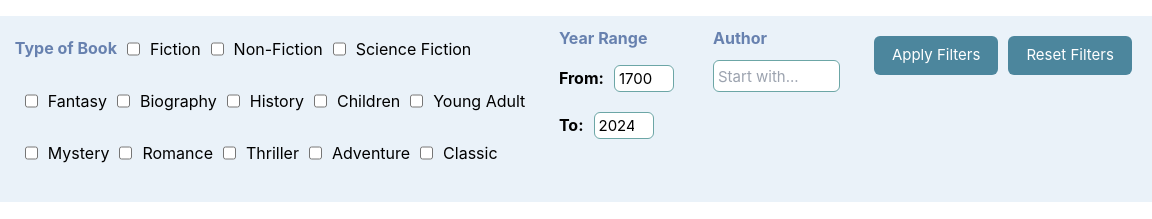
Test: resets filters when Reset Filters button is clicked
// Simulate the input from a user
In the field with placeholder "Start with...": coordinates (776, 76) [713,60,840,92], type "Author"
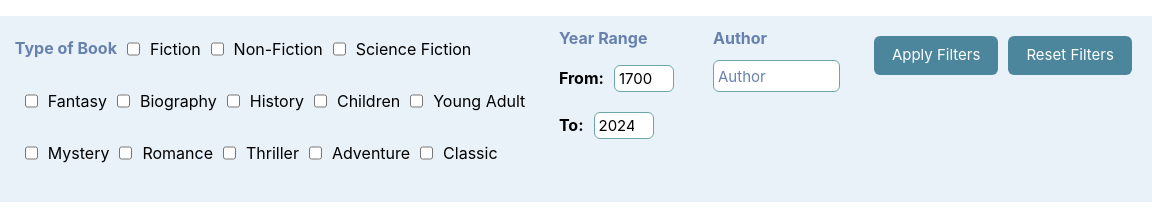
Replace the text in the number field labelled "From:" with "1800": coordinates (644, 78) [614,65,674,92]
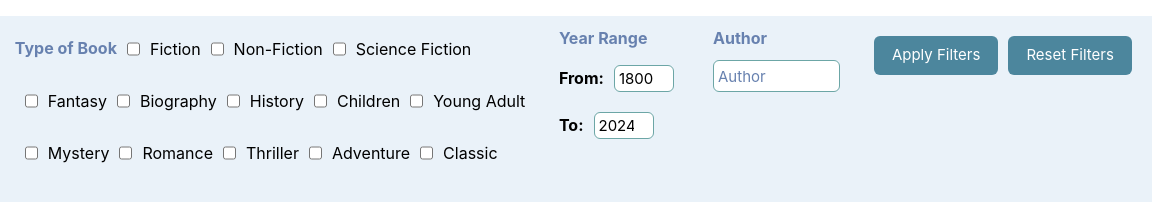
Replace the text in the number field labelled "To:" with "1900": coordinates (624, 126) [594,112,654,139]
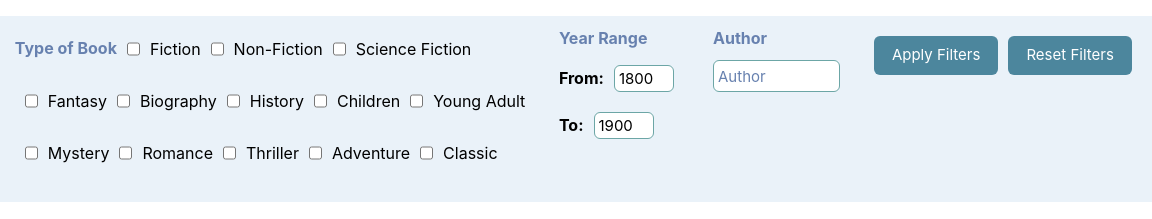
Click the button "Reset Filters": coordinates (1070, 55) [1008,36,1132,74]
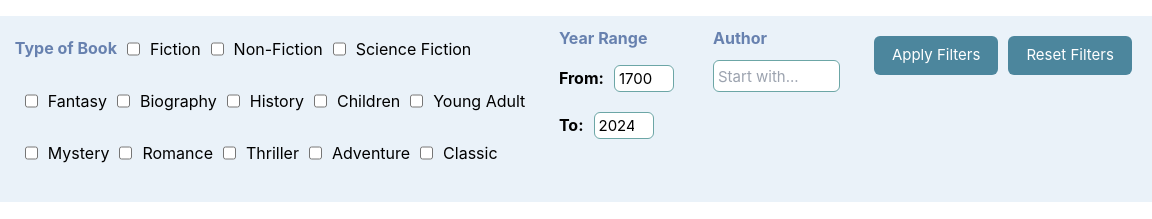
Result: the field with placeholder "Start with..." is empty at [713,60,840,92]
Result: the number field labelled "From:" holds "1700" at [614,65,674,92]
Result: the number field labelled "To:" holds "2024" at [594,112,654,139]
